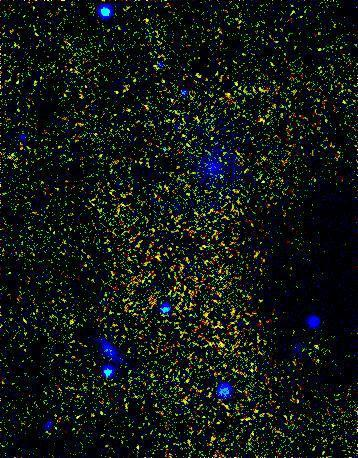star: (57, 307, 87, 337)
